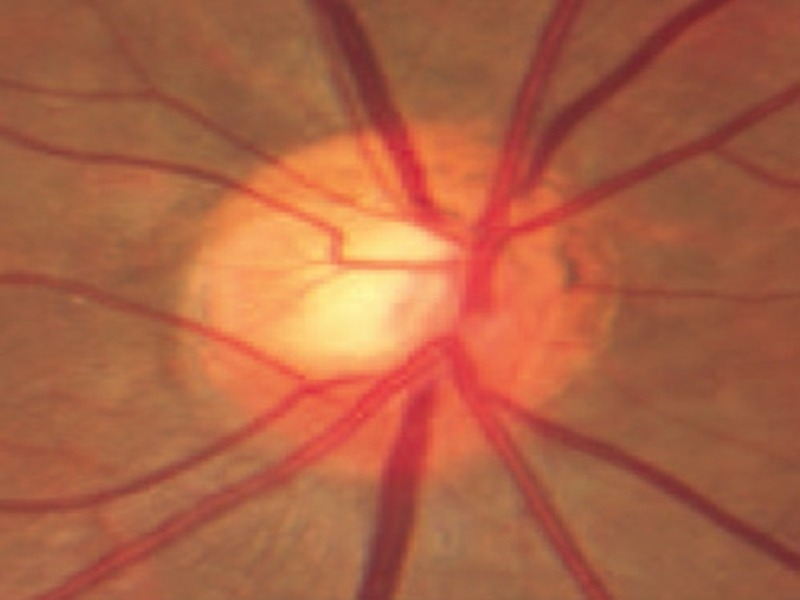Optic Cup: (289, 221, 460, 355)
Optic Disc: (176, 124, 624, 473)
